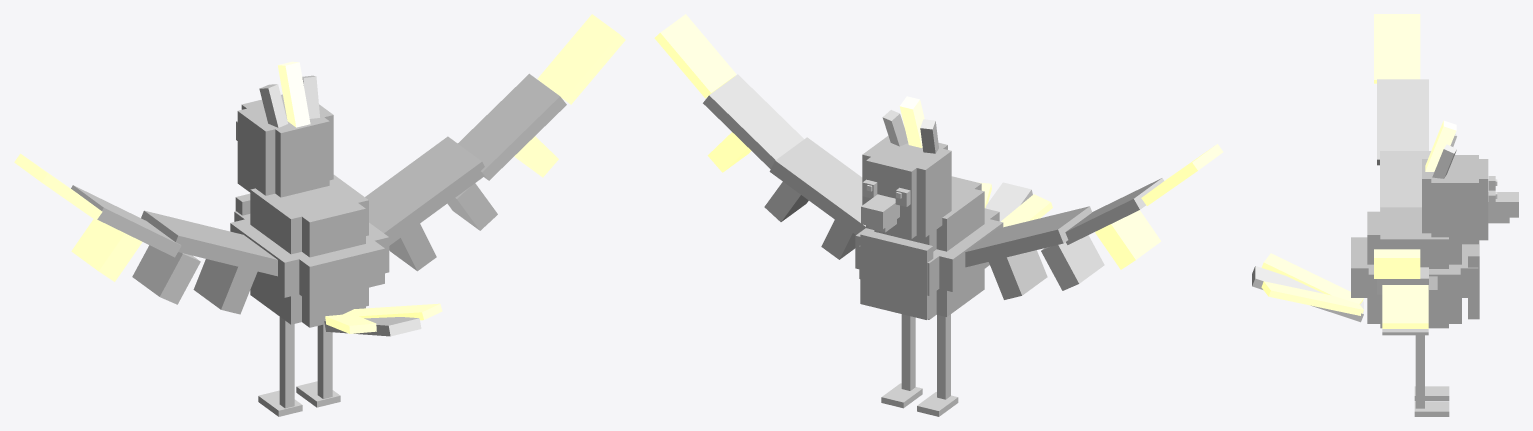
File: GoldenPhoenix.fbx
3 renders of one model, left to right at view 1: azimuth 30°, elevation 25°; view 2: azimuth 150°, elevation 25°; view 3: azimuth 270°, elevation 25°, orthographic. The views are drawn at different scales.
Parts seen in each view (by area): view 1: Golden Phoenix_wingR_20, Golden Phoenix_wingR_22, Golden Phoenix_body_5, Golden Phoenix_body_3, Golden Phoenix_wingR_24, Golden Phoenix_wingL_21, Golden Phoenix_body_4, Golden Phoenix_head_10, Golden Phoenix_body_2, Golden Phoenix_wingL_31, Golden Phoenix_wingL_29, Golden Phoenix_wingL_27 (+20 smaller); view 2: Golden Phoenix_body_6, Golden Phoenix_wingR_20, Golden Phoenix_wingR_22, Golden Phoenix_wingL_21, Golden Phoenix_wingR_24, Golden Phoenix_head_10, Golden Phoenix_head_9, Golden Phoenix_body_2, Golden Phoenix_wingL_31, Golden Phoenix_body_4, Golden Phoenix_wingL_29, Golden Phoenix_wingL_27 (+20 smaller); view 3: Golden Phoenix_wingL_23, Golden Phoenix_wingL_25, Golden Phoenix_wingL_21, Golden Phoenix_head_9, Golden Phoenix_wingR_30, Golden Phoenix_body_4, Golden Phoenix_body_3, Golden Phoenix_body_5, Golden Phoenix_head_10, Golden Phoenix_body_2, Golden Phoenix_tail_33, Golden Phoenix_head_7 (+15 smaller).
Part boxes in pixels (<box>): Golden Phoenix_wingR_20: <box>365,136,484,245</box>; Golden Phoenix_wingR_22: <box>458,73,566,180</box>; Golden Phoenix_body_5: <box>272,183,365,257</box>; Golden Phoenix_body_3: <box>234,211,384,301</box>; Golden Phoenix_wingR_24: <box>537,14,625,104</box>; Golden Phoenix_wingL_21: <box>141,210,277,276</box>; Golden Phoenix_body_4: <box>250,175,368,254</box>; Golden Phoenix_head_10: <box>241,94,329,169</box>; Golden Phoenix_body_2: <box>230,218,389,297</box>; Golden Phoenix_wingL_31: <box>71,219,142,281</box>; Golden Phoenix_wingL_29: <box>132,245,200,304</box>; Golden Phoenix_wingL_27: <box>193,259,257,314</box>; Golden Phoenix_body_6: <box>860,230,933,319</box>; Golden Phoenix_wingR_20: <box>769,137,865,234</box>; Golden Phoenix_wingR_22: <box>703,74,803,169</box>; Golden Phoenix_wingL_21: <box>965,206,1092,267</box>; Golden Phoenix_wingR_24: <box>654,14,736,98</box>; Golden Phoenix_head_10: <box>866,142,947,205</box>; Golden Phoenix_head_9: <box>862,135,951,203</box>; Golden Phoenix_body_2: <box>855,218,1003,291</box>; Golden Phoenix_wingL_31: <box>1095,210,1161,269</box>; Golden Phoenix_body_4: <box>874,183,984,251</box>; Golden Phoenix_wingL_29: <box>1041,235,1104,290</box>; Golden Phoenix_wingL_27: <box>989,250,1047,299</box>; Golden Phoenix_wingL_23: <box>1377,79,1428,165</box>; Golden Phoenix_wingL_25: <box>1374,14,1420,83</box>; Golden Phoenix_wingL_21: <box>1380,151,1430,211</box>; Golden Phoenix_head_9: <box>1431,155,1478,213</box>; Golden Phoenix_wingR_30: <box>1382,285,1428,328</box>; Golden Phoenix_body_4: <box>1380,207,1448,268</box>; Golden Phoenix_body_3: <box>1351,237,1478,297</box>; Golden Phoenix_body_5: <box>1367,211,1461,264</box>; Golden Phoenix_head_10: <box>1422,159,1488,209</box>; Golden Phoenix_body_2: <box>1368,264,1460,304</box>; Golden Phoenix_tail_33: <box>1261,281,1363,315</box>; Golden Phoenix_head_7: <box>1431,213,1478,244</box>.
Bounding box in the file's own units: 491 × 268 × 230.
